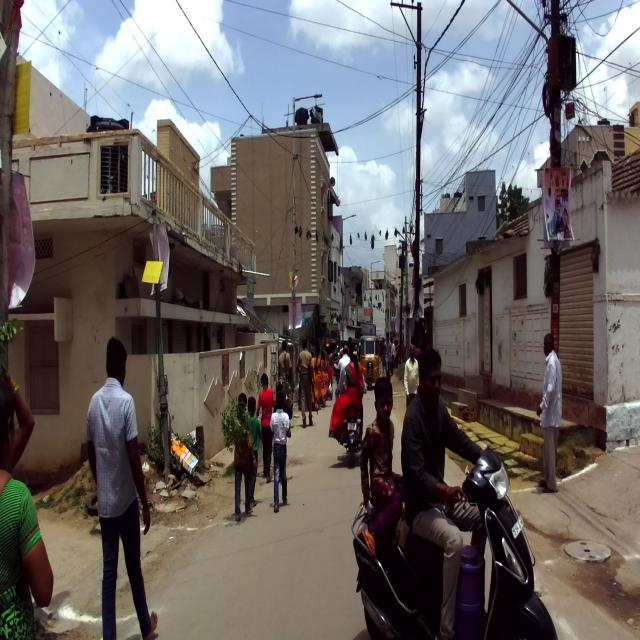autorickshaw: (357, 334, 381, 388)
scooter: (350, 444, 557, 640)
